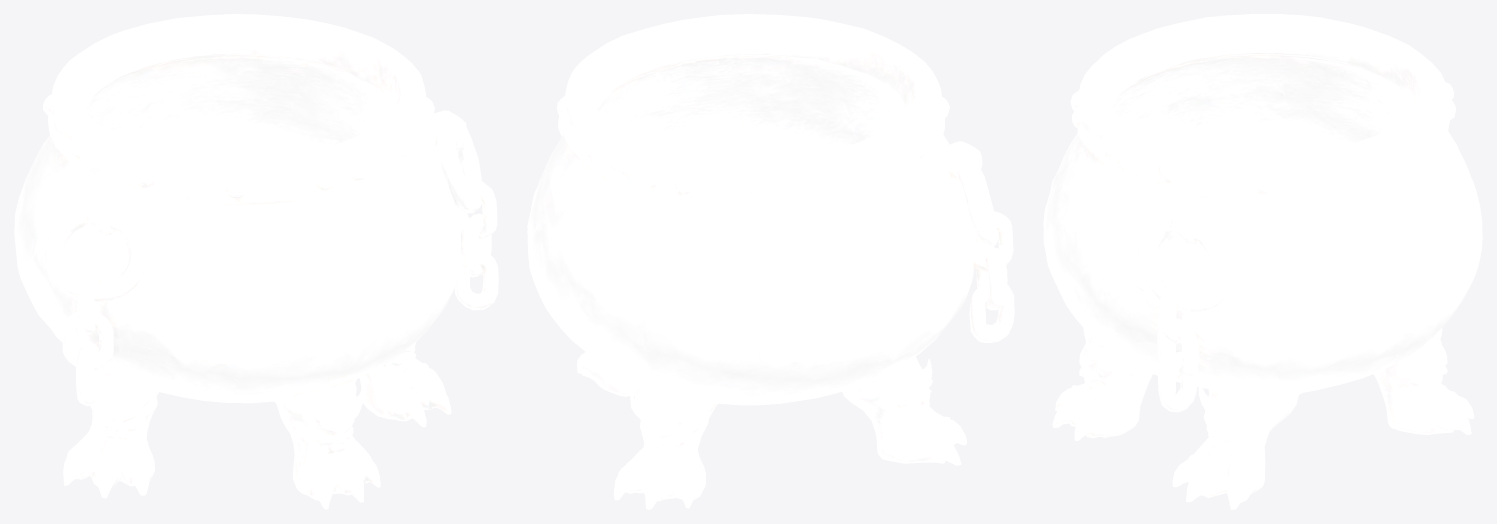
The model's file is cauldron.glb.
The picture shows the model from 3 angles, left to right: view 1: azimuth 30°, elevation 25°; view 2: azimuth 150°, elevation 25°; view 3: azimuth 270°, elevation 25°; orthographic projection. The views are drawn at different scales.
Bounding box in the file's own units: 1.9 × 1.43 × 1.71.
Materials: 1 (1 with a texture image).
